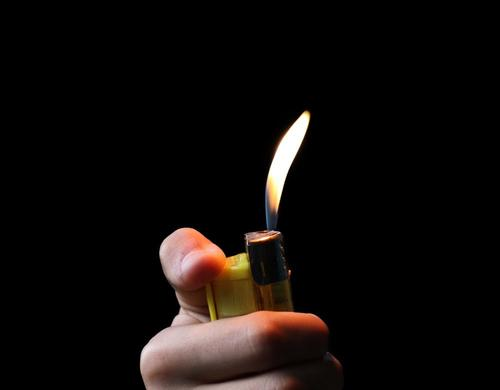fire: (253, 99, 317, 251)
